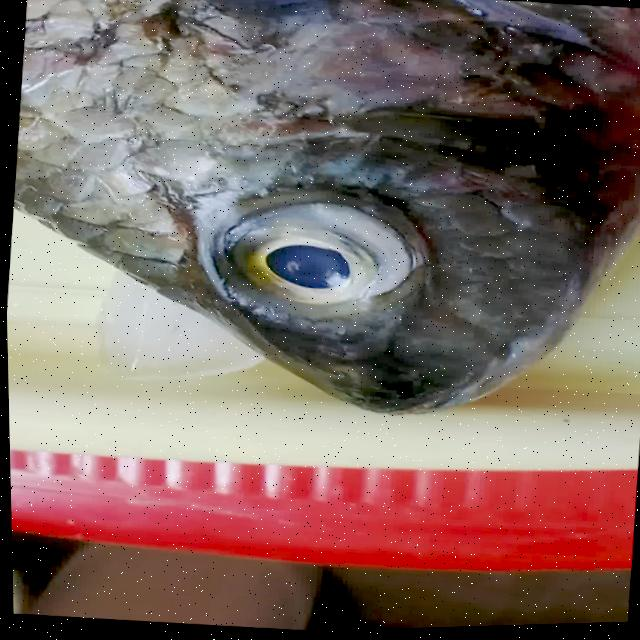Fresh: (209, 186, 416, 324)
